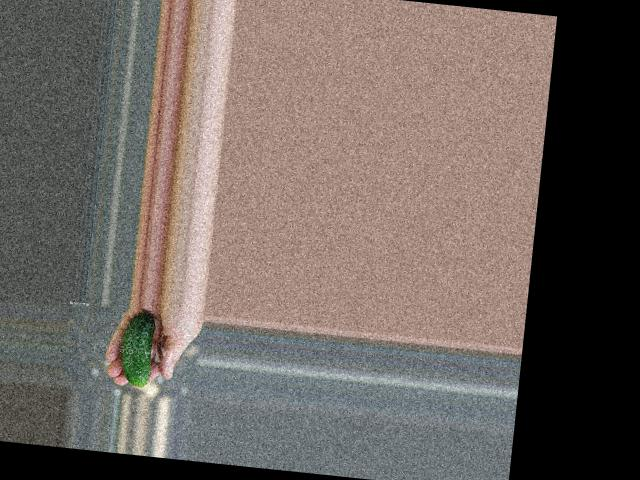cucumber: (116, 310, 156, 386)
